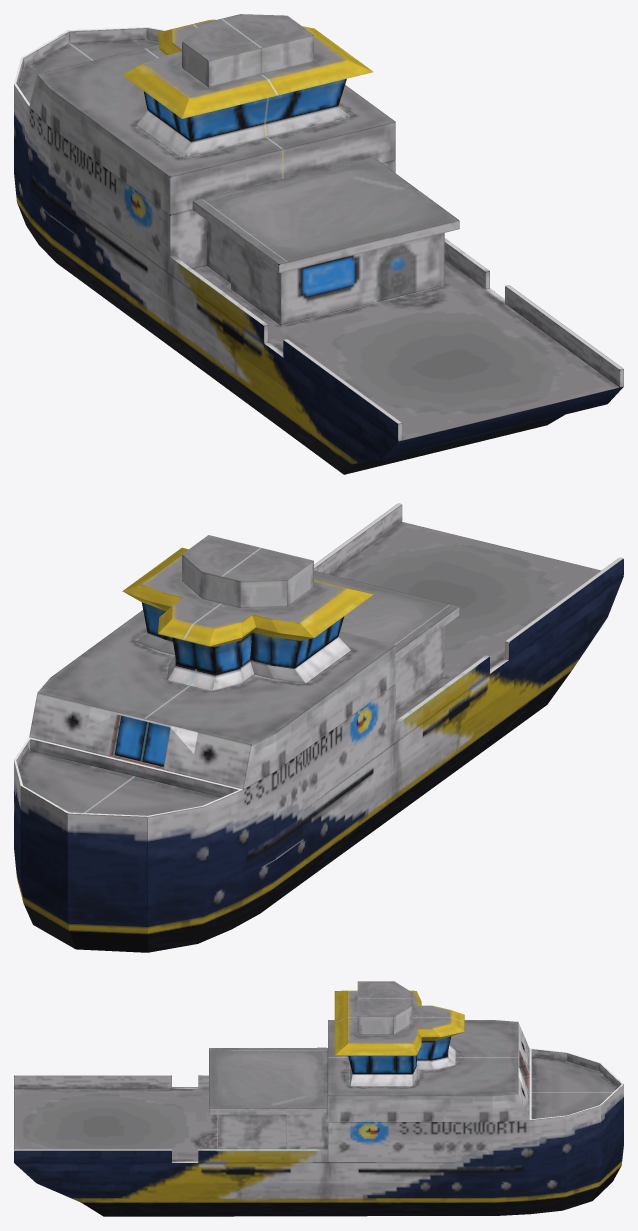
The model's file is Boat.fbx.
The picture shows the model from 3 angles, top to bottom: view 1: azimuth 30°, elevation 25°; view 2: azimuth 150°, elevation 25°; view 3: azimuth 270°, elevation 25°; orthographic projection. The views are drawn at different scales.
Visible parts, largest first — view 1: cuboid; view 2: cuboid; view 3: cuboid.
Part boxes in pixels (left/top/right/bottom): cuboid: left=14, top=14, right=623, bottom=474; cuboid: left=14, top=503, right=623, bottom=952; cuboid: left=14, top=981, right=623, bottom=1216.
Size of the model in its own units: 500 by 565 by 1700.
1 material, 1 textured.
